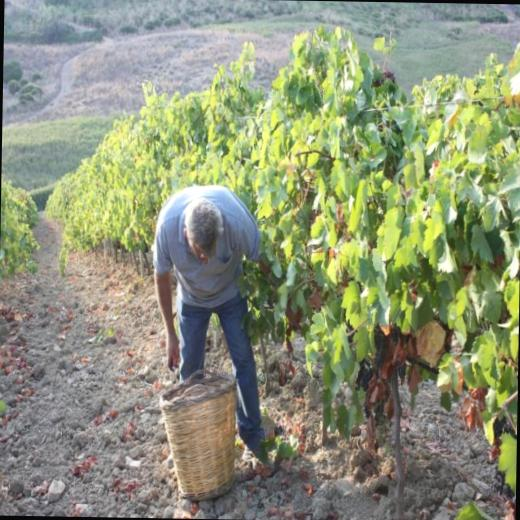Orange: (355, 354, 378, 392), (494, 464, 516, 497), (374, 322, 389, 369), (363, 398, 386, 424), (494, 416, 517, 439), (388, 322, 400, 343), (396, 361, 406, 380)
